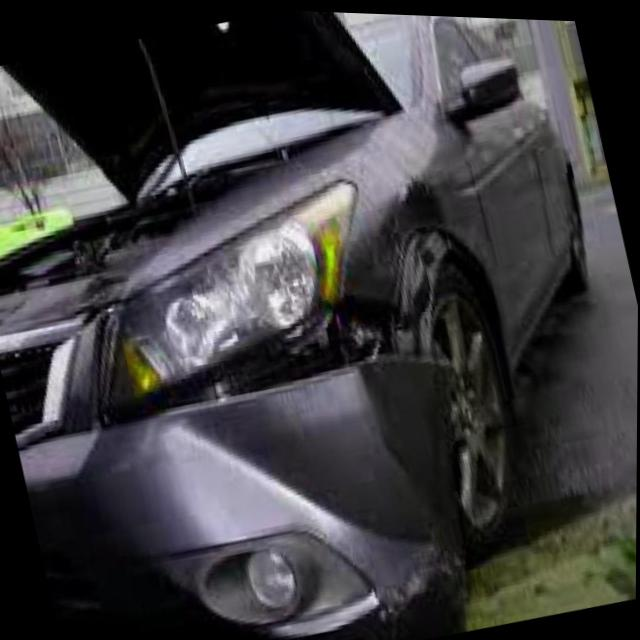Car-Damage: (59, 152, 543, 640)
